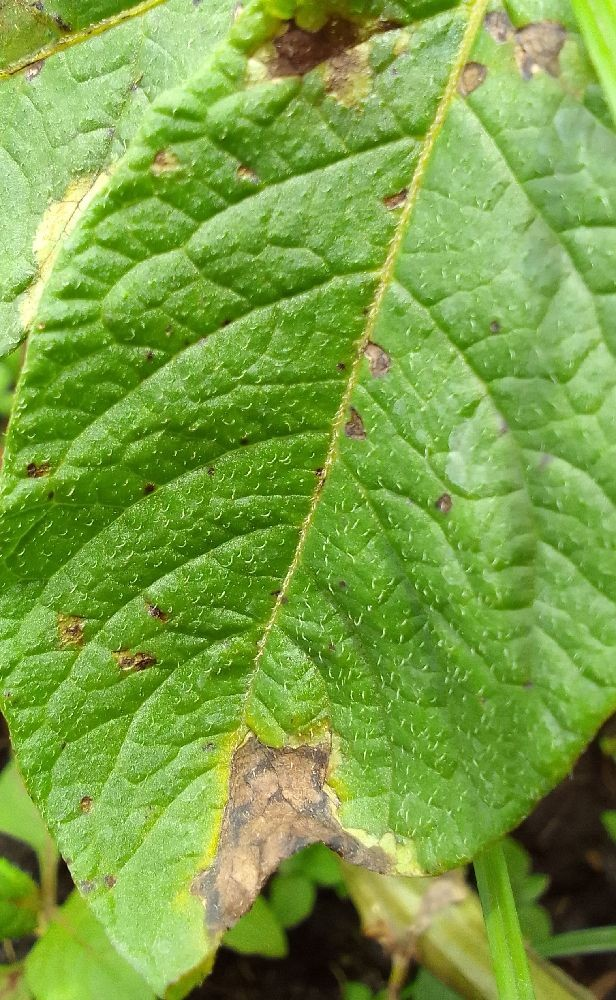late_blight: (179, 723, 491, 999), (476, 682, 616, 963), (232, 0, 425, 125), (518, 937, 616, 1000)
